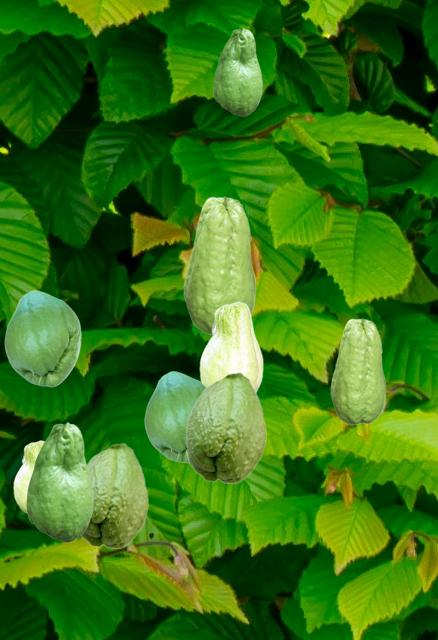sayote: (183, 196, 255, 334), (185, 371, 266, 483), (26, 422, 92, 541), (4, 290, 80, 386), (81, 442, 148, 548), (330, 318, 385, 424), (199, 301, 262, 391), (144, 371, 205, 462), (213, 28, 261, 115), (13, 440, 44, 513)
